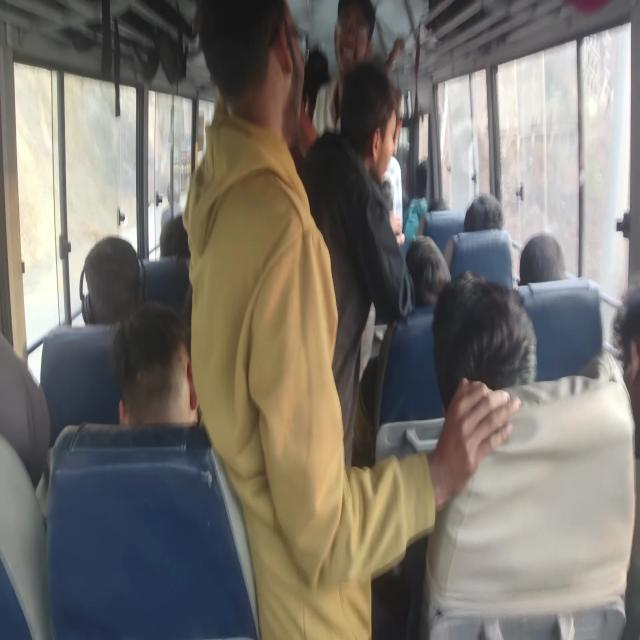person: (212, 0, 295, 144), (116, 308, 194, 444), (438, 279, 528, 395), (599, 301, 640, 481), (338, 82, 393, 199), (0, 353, 48, 468), (74, 212, 136, 301), (462, 192, 512, 257), (333, 0, 370, 77), (516, 228, 564, 286), (403, 239, 437, 300), (155, 210, 192, 266), (421, 173, 454, 204)
